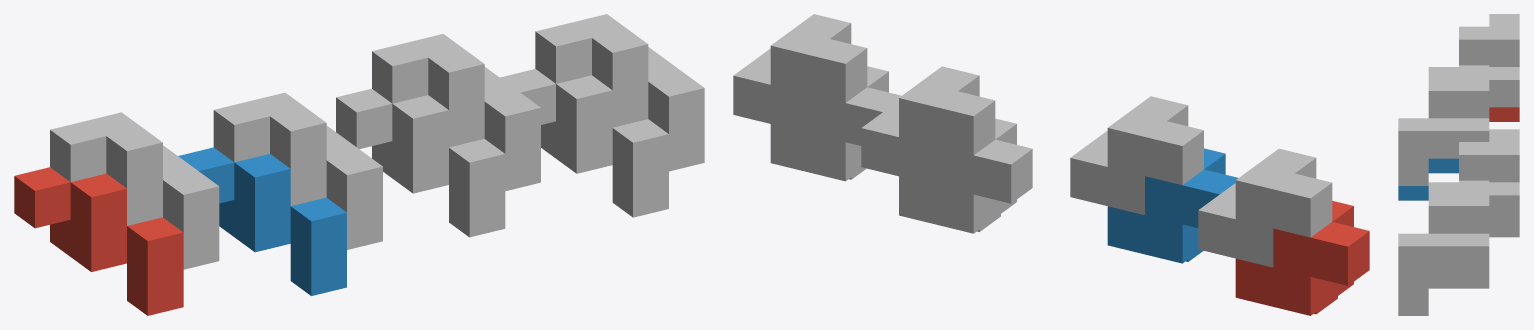
The model's file is tiling.obj.
The picture shows the model from 3 angles, left to right: view 1: azimuth 30°, elevation 25°; view 2: azimuth 150°, elevation 25°; view 3: azimuth 270°, elevation 25°; orthographic projection. The views are drawn at different scales.
Parts seen in each view (by area): view 1: copy_1_domain_1, copy_1_domain_5, copy_1_domain_3, copy_1_domain_4, copy_1_domain_8, copy_1_domain_7, copy_1_domain_6, copy_1_domain_2; view 2: copy_1_domain_3, copy_1_domain_8, copy_1_domain_7, copy_1_domain_4, copy_1_domain_1, copy_1_domain_5, copy_1_domain_6, copy_1_domain_2; view 3: copy_1_domain_8, copy_1_domain_4, copy_1_domain_3, copy_1_domain_7, copy_1_domain_6, copy_1_domain_2, copy_1_domain_5, copy_1_domain_1.
Boxes of the visible parts, x1=… form: copy_1_domain_1: x1=14, y1=167, x2=183, y2=315; copy_1_domain_5: x1=336, y1=88, x2=505, y2=237; copy_1_domain_3: x1=50, y1=112, x2=219, y2=269; copy_1_domain_4: x1=213, y1=92, x2=382, y2=249; copy_1_domain_8: x1=535, y1=14, x2=704, y2=171; copy_1_domain_7: x1=372, y1=34, x2=540, y2=191; copy_1_domain_6: x1=500, y1=69, x2=668, y2=217; copy_1_domain_2: x1=178, y1=147, x2=346, y2=295; copy_1_domain_3: x1=1198, y1=148, x2=1332, y2=267; copy_1_domain_8: x1=733, y1=14, x2=867, y2=132; copy_1_domain_7: x1=861, y1=66, x2=995, y2=185; copy_1_domain_4: x1=1070, y1=96, x2=1203, y2=215; copy_1_domain_1: x1=1235, y1=201, x2=1369, y2=315; copy_1_domain_5: x1=899, y1=118, x2=1032, y2=233; copy_1_domain_6: x1=770, y1=66, x2=901, y2=181; copy_1_domain_2: x1=1107, y1=148, x2=1238, y2=263; copy_1_domain_8: x1=1398, y1=180, x2=1489, y2=301; copy_1_domain_4: x1=1398, y1=65, x2=1489, y2=185; copy_1_domain_3: x1=1428, y1=14, x2=1519, y2=107; copy_1_domain_7: x1=1428, y1=129, x2=1519, y2=222; copy_1_domain_6: x1=1398, y1=274, x2=1489, y2=315; copy_1_domain_2: x1=1398, y1=158, x2=1458, y2=200; copy_1_domain_5: x1=1489, y1=222, x2=1519, y2=237; copy_1_domain_1: x1=1489, y1=107, x2=1519, y2=121.
Size of the model in its own units: 17 by 4 by 4.
